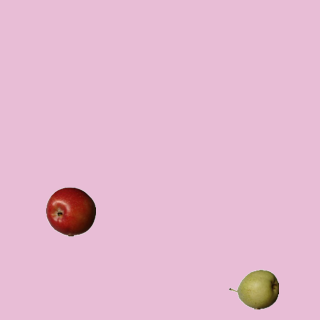Apple Braeburn: (45, 186, 95, 236)
Pear: (228, 264, 278, 314)
